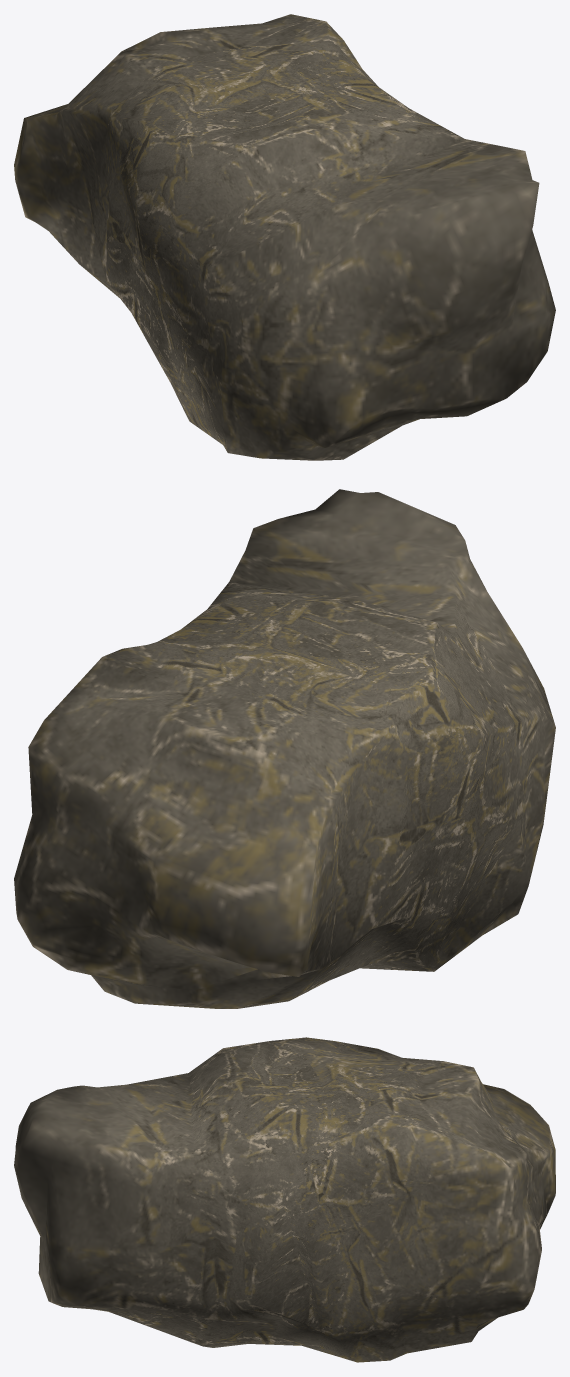
The model's file is ClusterRockC.gltf.
3 views of the same model, one above another, from view 1: azimuth 30°, elevation 25°; view 2: azimuth 150°, elevation 25°; view 3: azimuth 270°, elevation 25° (orthographic). The views are drawn at different scales.
Parts seen in each view (by area): view 1: rock-cluster-low-03_rock-cluster-dark_0; view 2: rock-cluster-low-03_rock-cluster-dark_0; view 3: rock-cluster-low-03_rock-cluster-dark_0.
Boxes of the visible parts, left/top/right/bottom form: rock-cluster-low-03_rock-cluster-dark_0: left=14, top=14, right=555, bottom=460; rock-cluster-low-03_rock-cluster-dark_0: left=14, top=489, right=555, bottom=1008; rock-cluster-low-03_rock-cluster-dark_0: left=14, top=1037, right=555, bottom=1362.
Size of the model in its own units: 34.98 by 33.64 by 62.19.
Materials: 1 (1 with a texture image).
